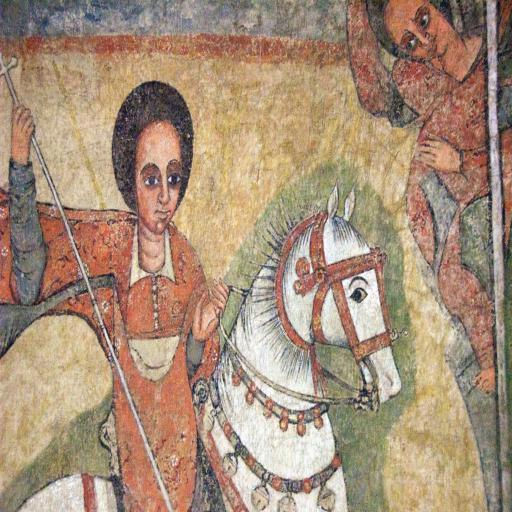horse: (14, 179, 402, 512)
